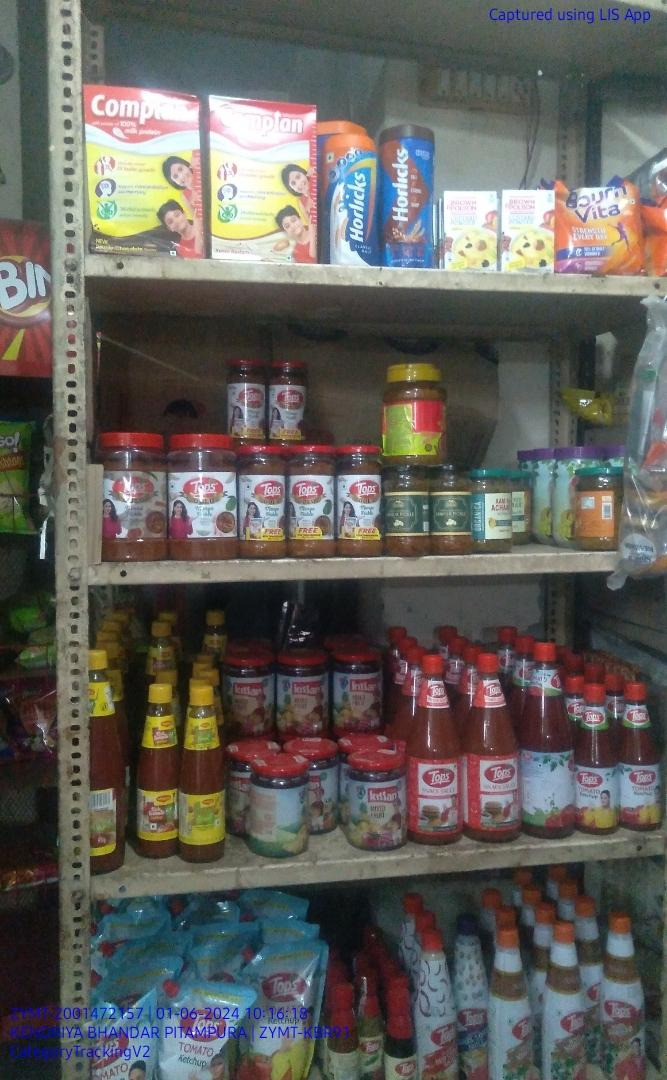BOURN_VITA_500_G_POUCH: (556, 179, 639, 278)
COMPLAN_CHOCOLATE_500_GMS_PACK: (84, 86, 202, 256)
COMPLAN_KESAR_BADAM_500_GMS_PACK: (210, 98, 317, 261)
HORLICK_CHOCOLATE_200_G_JAR: (381, 124, 435, 268)
HORLICK_CLASSIC_MALT_200_G_JAR: (323, 136, 376, 268)
